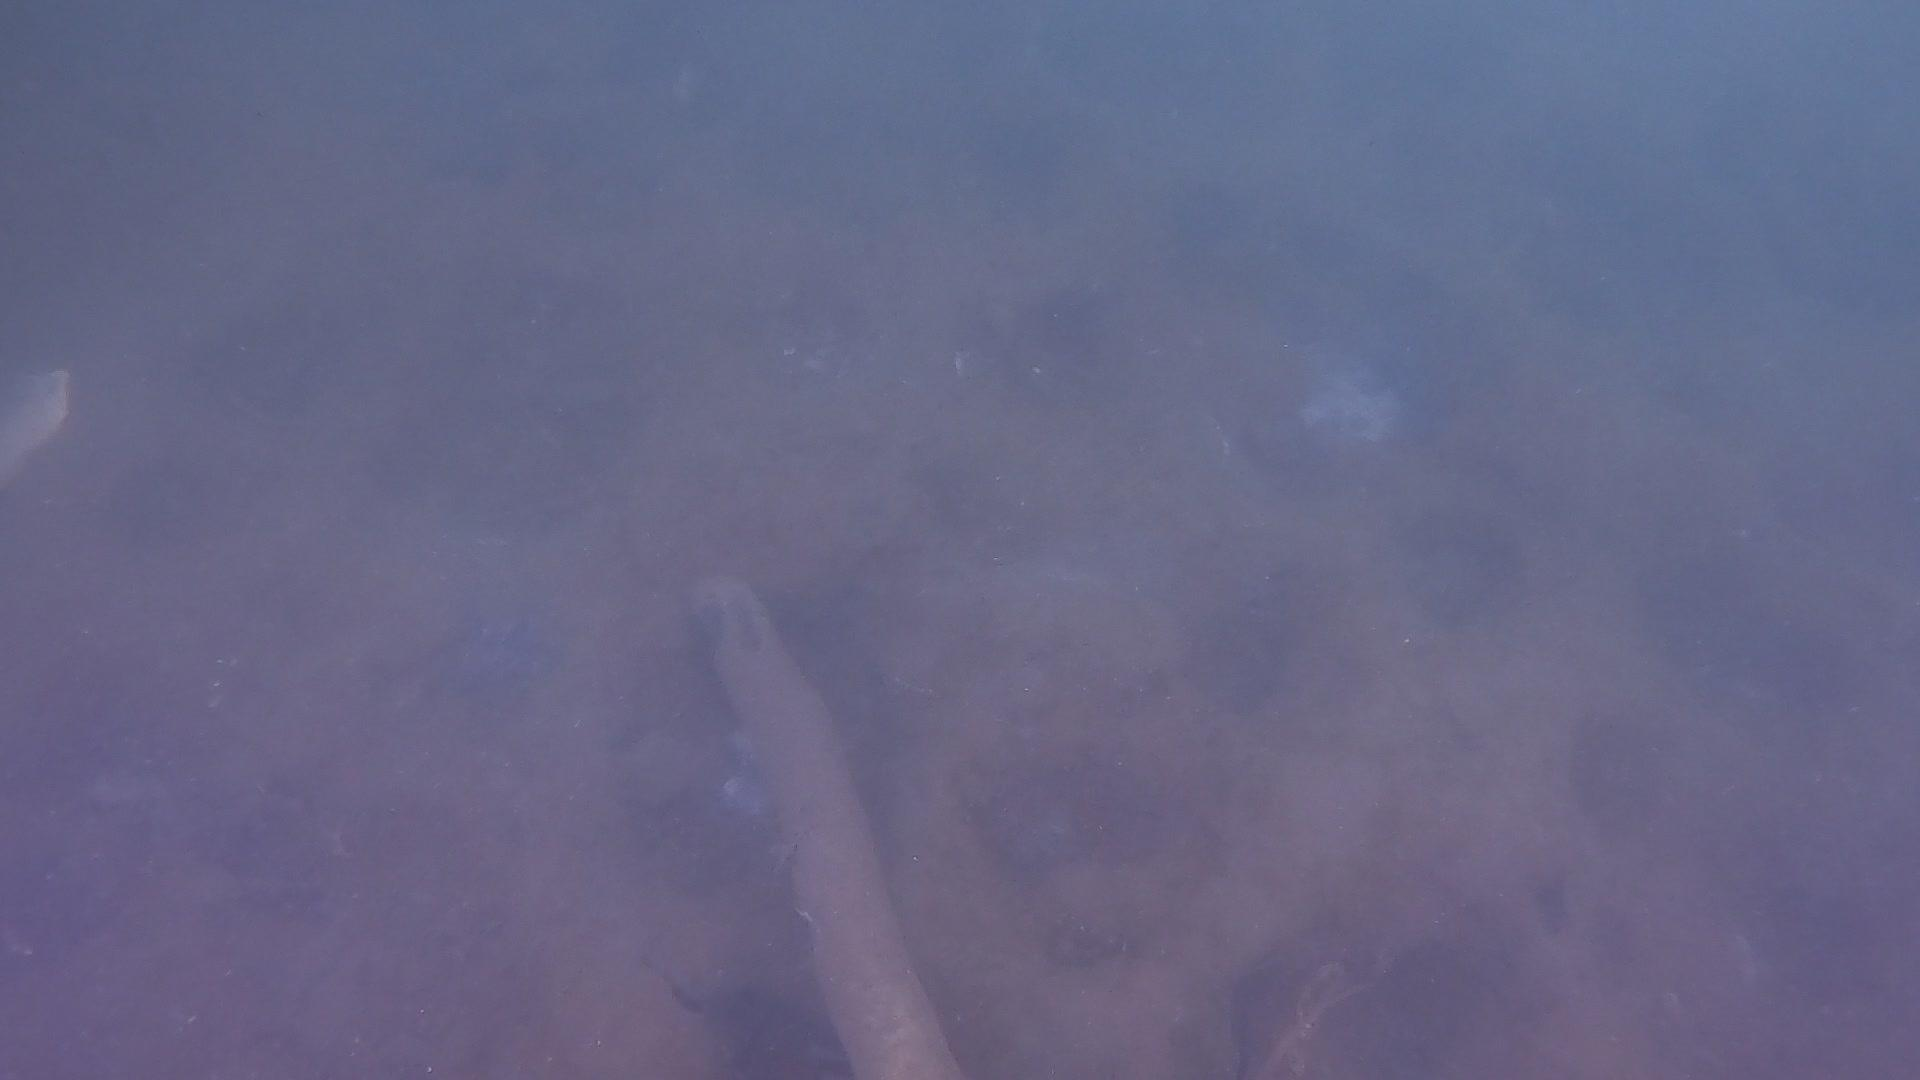wood: (695, 574, 967, 1080)
